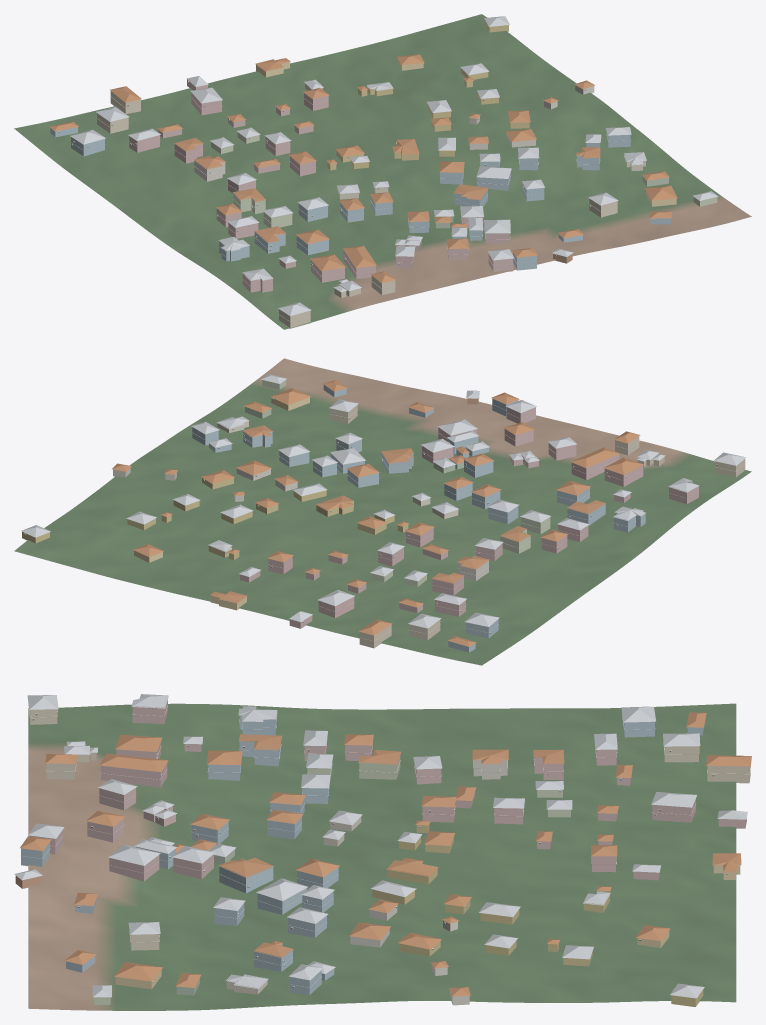
3 views of the same model, one above another, from view 1: azimuth 30°, elevation 25°; view 2: azimuth 150°, elevation 25°; view 3: azimuth 270°, elevation 25° (orthographic). The views are drawn at different scales.
Visible parts, largest first — view 1: Terrain-col, Buildings-col, Details; view 2: Terrain-col, Buildings-col, Details; view 3: Terrain-col, Buildings-col, Details.
Boxes of the visible parts, left/top/right/bottom form: Terrain-col: left=14, top=14, right=751, bottom=329; Buildings-col: left=49, top=16, right=718, bottom=328; Details: left=58, top=63, right=654, bottom=321; Terrain-col: left=14, top=358, right=751, bottom=665; Buildings-col: left=21, top=374, right=746, bottom=652; Details: left=23, top=398, right=745, bottom=641; Terrain-col: left=28, top=703, right=736, bottom=1010; Buildings-col: left=14, top=694, right=751, bottom=1006; Details: left=21, top=704, right=750, bottom=998.
Size of the model in its own units: 261 by 12.11 by 267.
